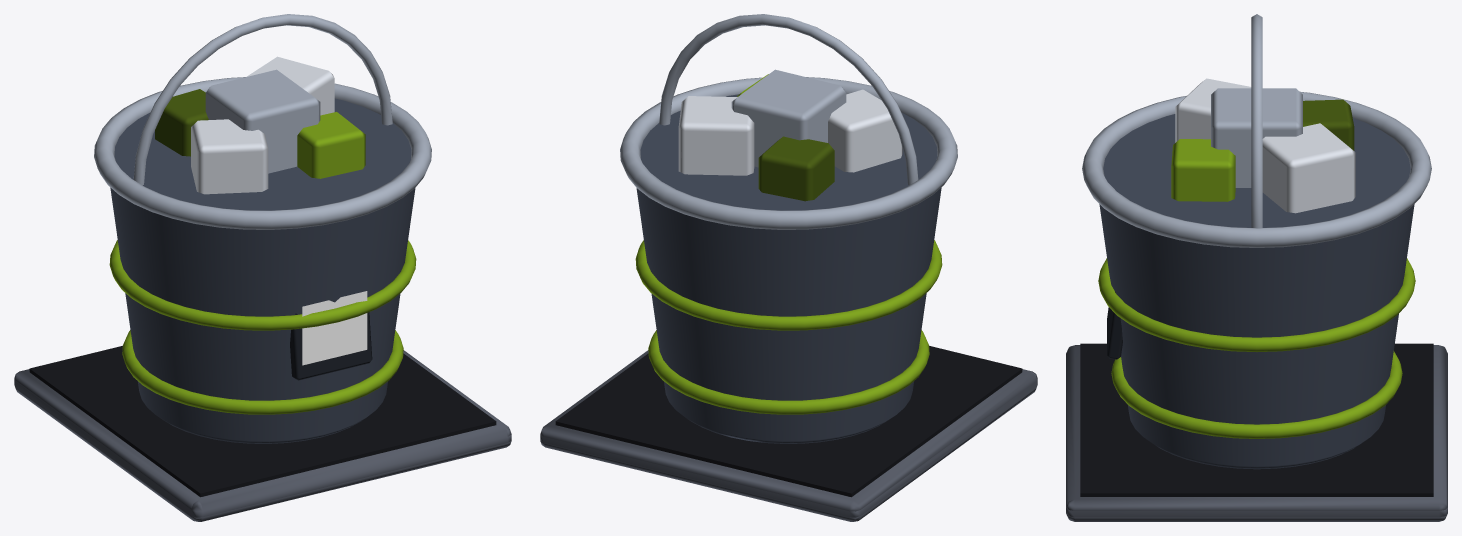
The picture shows the model from 3 angles, left to right: view 1: azimuth 30°, elevation 25°; view 2: azimuth 150°, elevation 25°; view 3: azimuth 270°, elevation 25°; orthographic projection. The views are drawn at different scales.
Parts seen in each view (by area): view 1: body.steel, body.rubber, body.steel_light, body.accent, body.concrete, body.white, body.badge, body.accent_dark, body.bezel; view 2: body.steel, body.rubber, body.steel_light, body.concrete, body.accent, body.white, body.accent_dark; view 3: body.steel, body.rubber, body.steel_light, body.accent, body.concrete, body.white, body.accent_dark, body.bezel.
Boxes of the visible parts, x1,y1,x2,y2 form: body.steel: (110, 98, 415, 443); body.rubber: (29, 345, 496, 497); body.steel_light: (94, 14, 431, 229); body.accent: (109, 112, 416, 414); body.concrete: (14, 350, 511, 521); body.white: (191, 56, 334, 194); body.badge: (302, 291, 367, 365); body.accent_dark: (155, 89, 208, 156); body.bezel: (290, 312, 372, 380); body.steel: (636, 94, 941, 443); body.rubber: (555, 345, 1022, 497); body.steel_light: (620, 14, 957, 229); body.concrete: (540, 350, 1037, 521); body.accent: (635, 74, 942, 414); body.white: (678, 89, 902, 175); body.accent_dark: (758, 136, 834, 201); body.steel: (1099, 114, 1414, 469); body.rubber: (1080, 343, 1433, 496); body.steel_light: (1082, 14, 1431, 247); body.accent: (1098, 139, 1415, 438); body.concrete: (1066, 345, 1447, 521); body.white: (1175, 78, 1355, 213); body.accent_dark: (1303, 99, 1354, 150); body.bezel: (1107, 292, 1122, 359).
Size of the model in its own units: 1.08 by 1.3 by 1.08.
